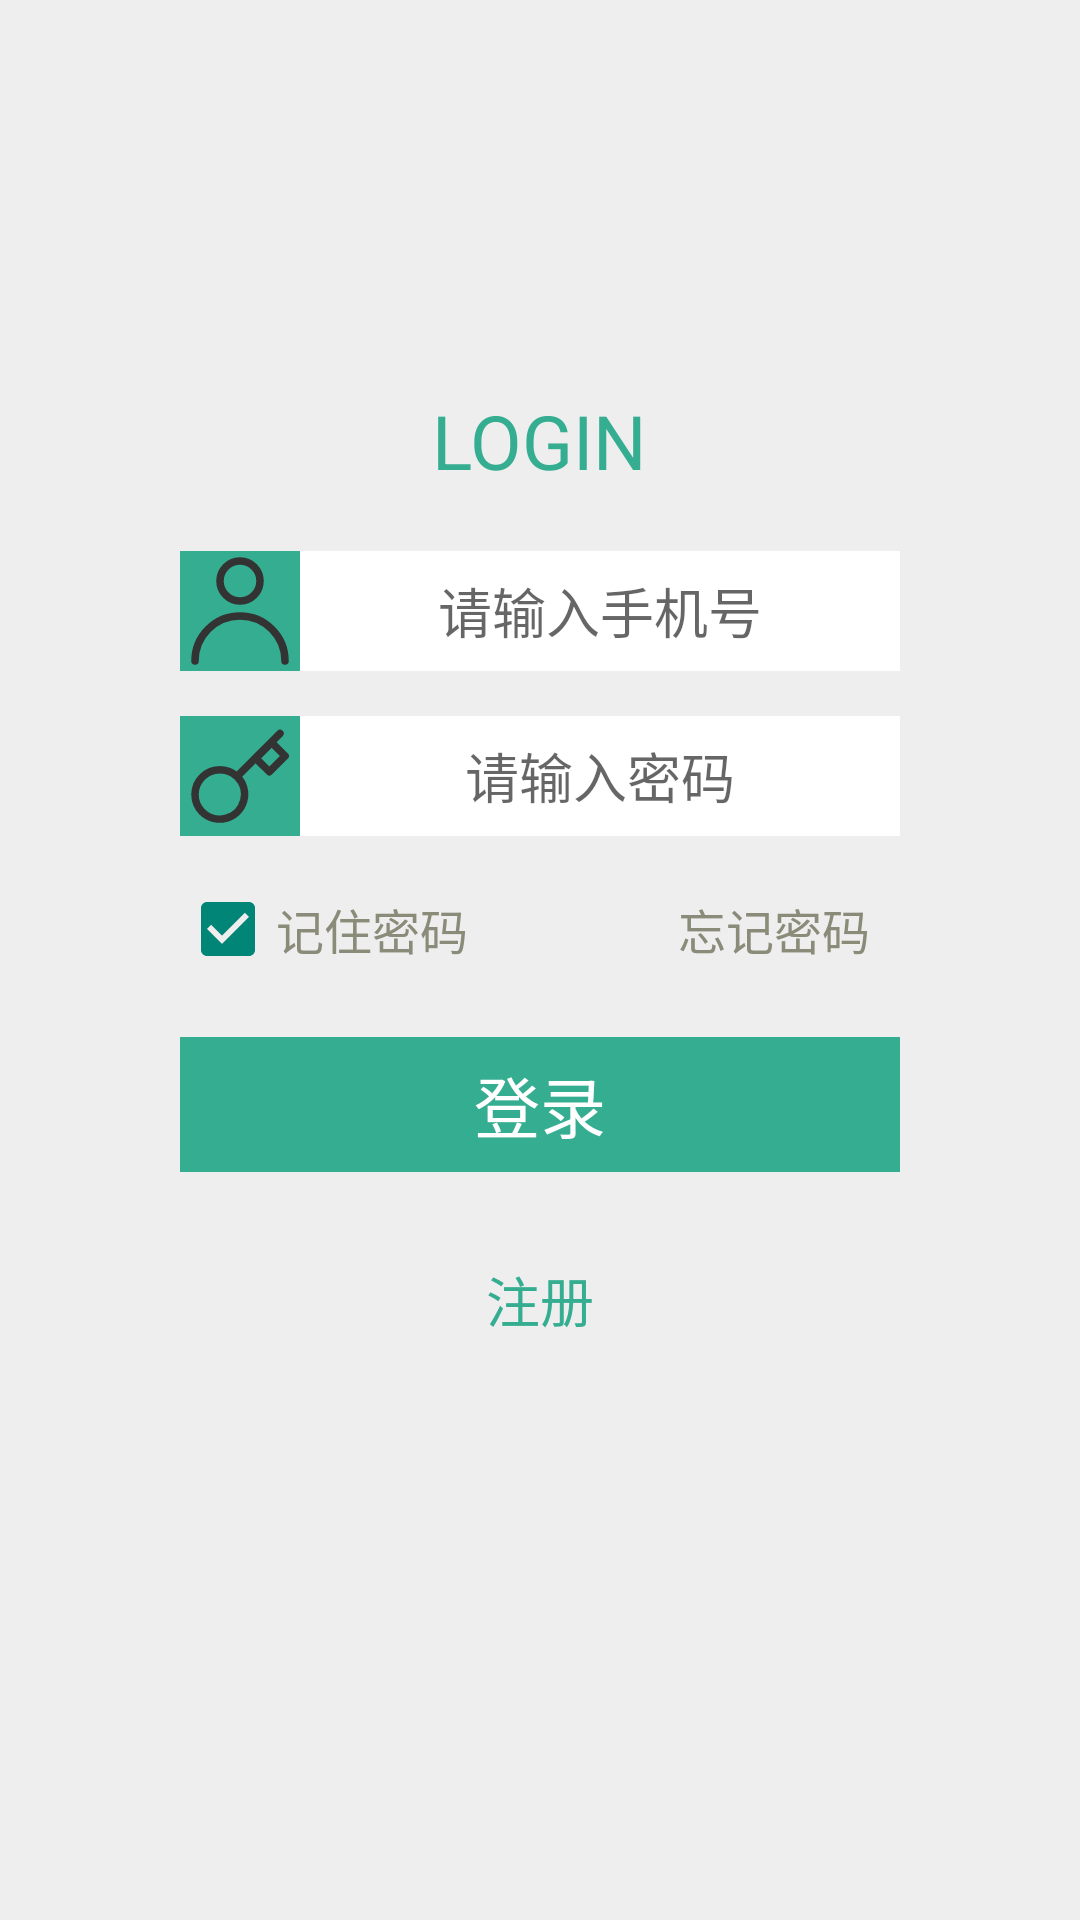

Icons on this 1080px x 1920px Android screen, each with its box as [left=x1, top=y1, right=x2, bottom=y2]:
key: [left=180, top=716, right=300, bottom=836]
user: [left=180, top=551, right=300, bottom=671]
